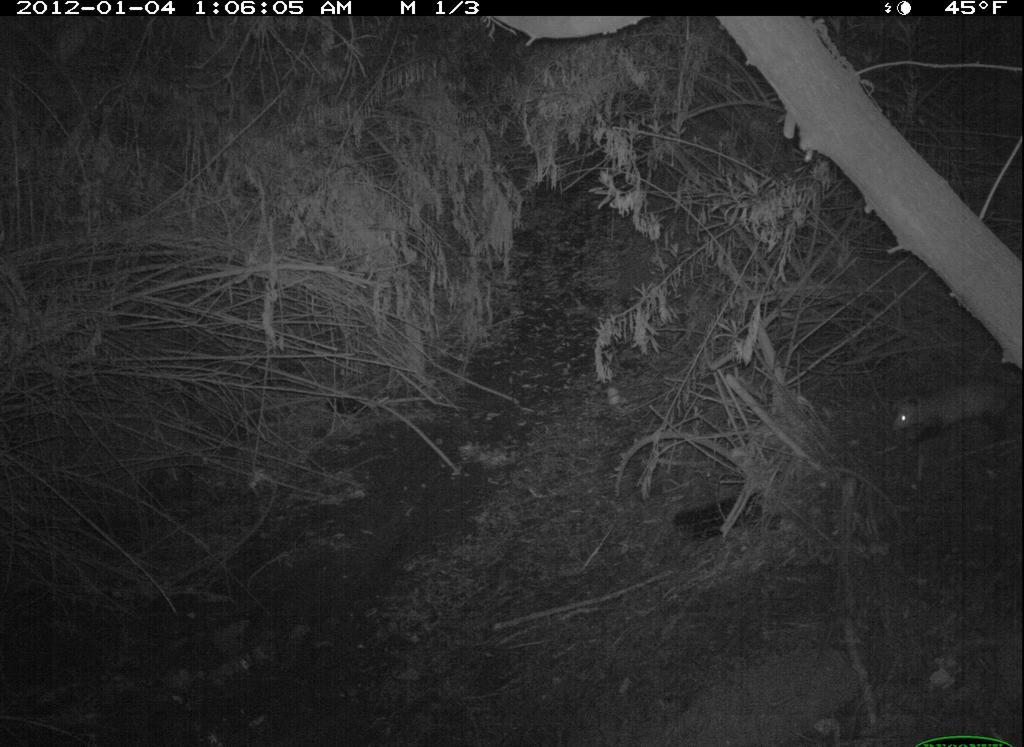opossum: (881, 368, 1023, 455)
